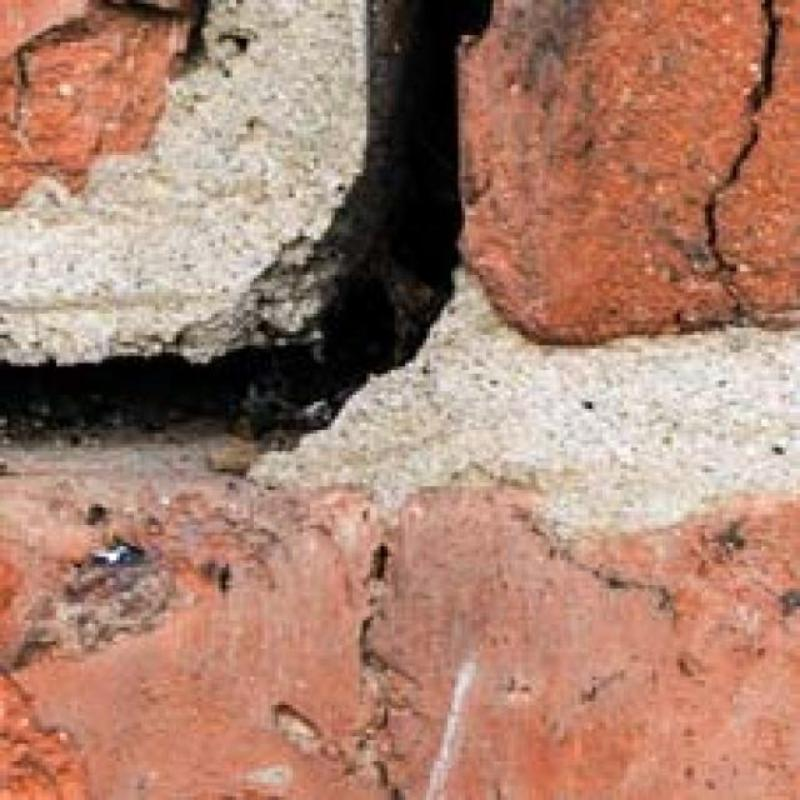pothole: (0, 0, 487, 440), (703, 0, 781, 270)
